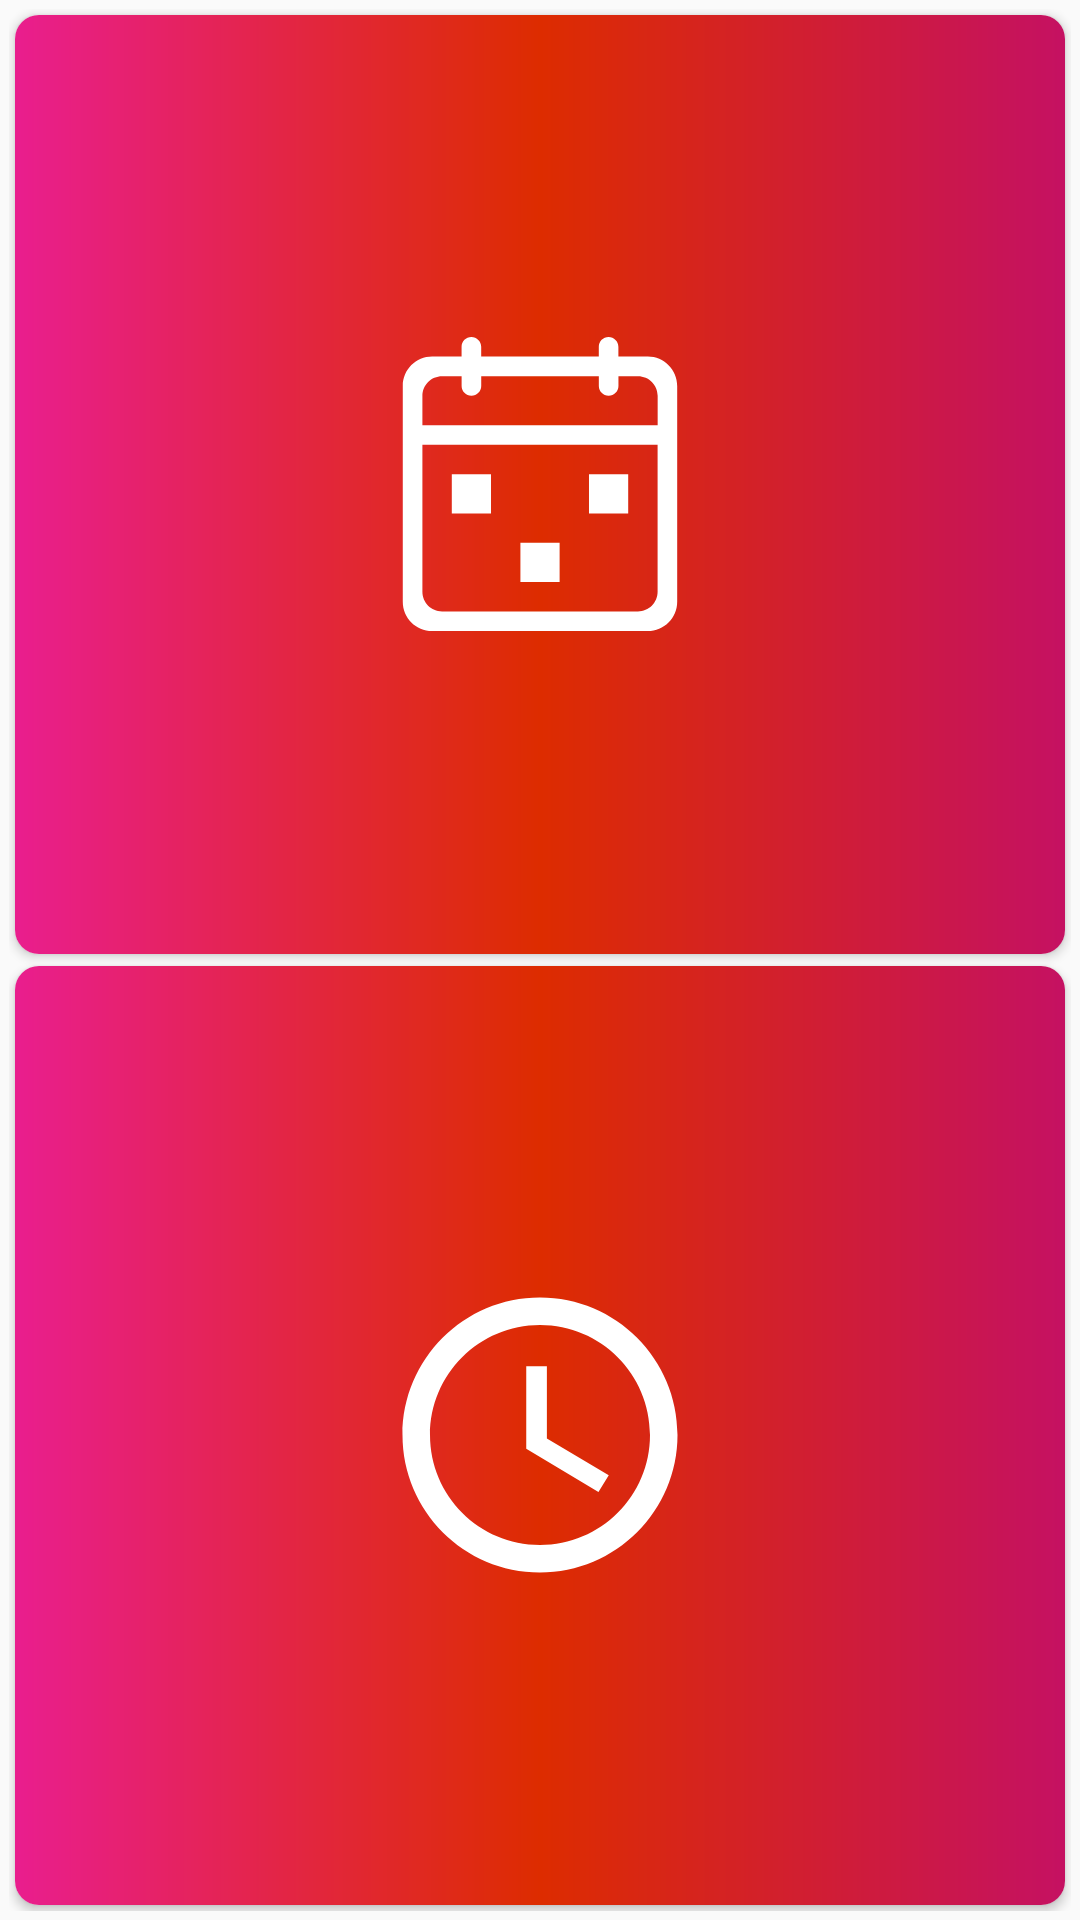

Screen size 1080 × 1920. Icon name, then its center in pixels as [x,y]:
access time: [526,1435]
date: [534,484]
